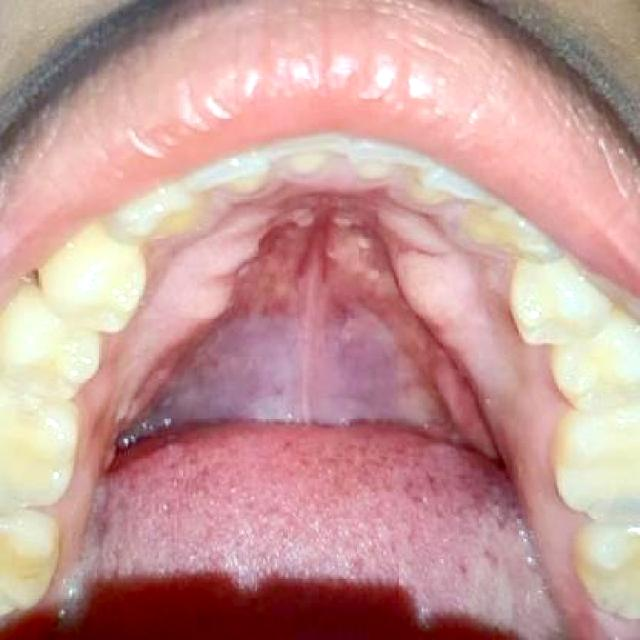Plaque: (601, 490, 637, 534)
